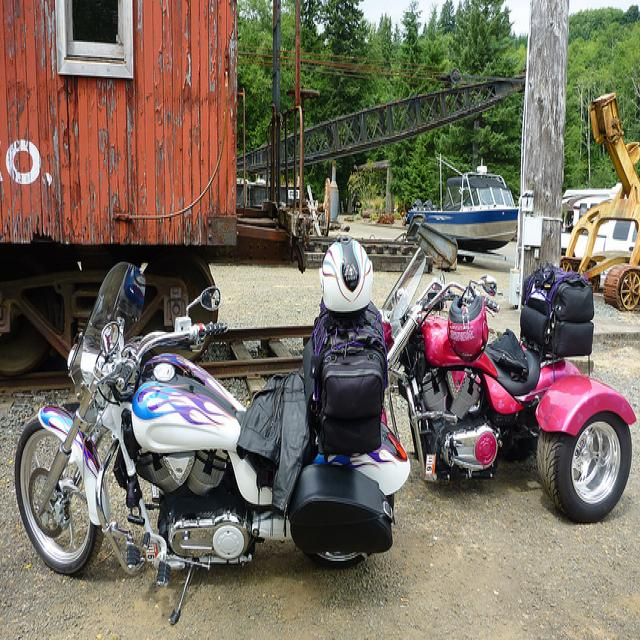motor: (16, 257, 414, 625), (379, 249, 639, 541)
